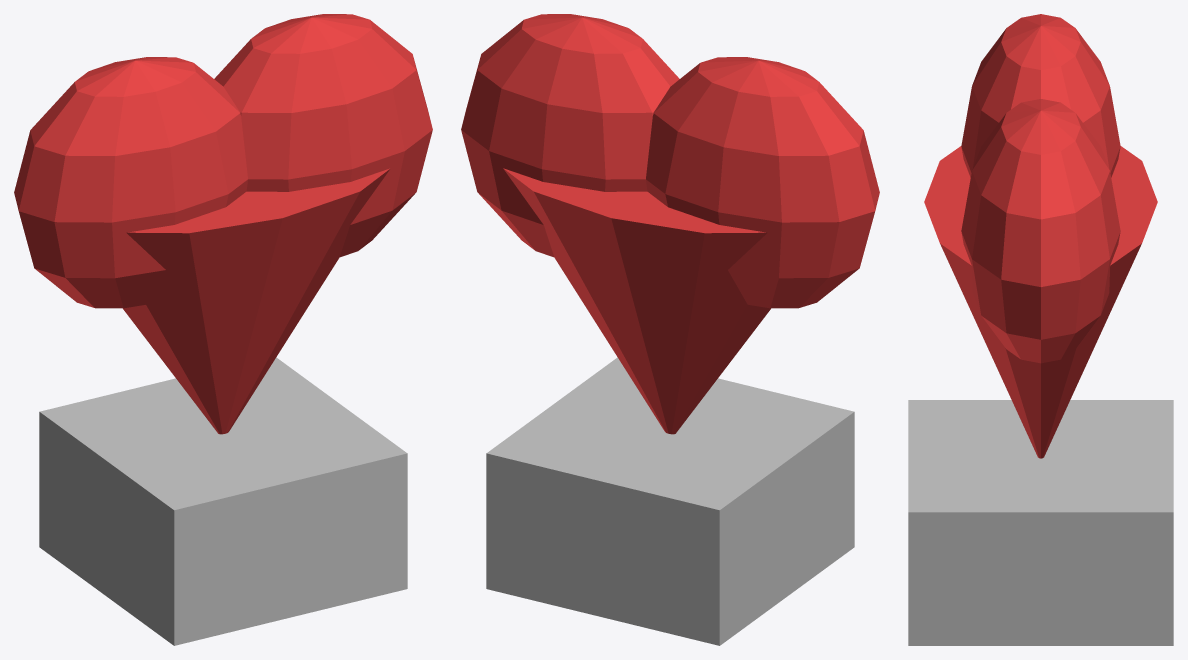
The model's file is hearts_sculpture.glb.
3 views of the same model, side by side, from view 1: azimuth 30°, elevation 25°; view 2: azimuth 150°, elevation 25°; view 3: azimuth 270°, elevation 25° (orthographic).
Visible parts, largest first — view 1: hearts_sculpture; view 2: hearts_sculpture; view 3: hearts_sculpture.
Part boxes in pixels (box(x1,y1,x2,y2)): hearts_sculpture: box(14, 14, 432, 645); hearts_sculpture: box(461, 14, 879, 645); hearts_sculpture: box(908, 14, 1173, 645).
Size of the model in its own units: 1.58 by 1.95 by 0.9.
